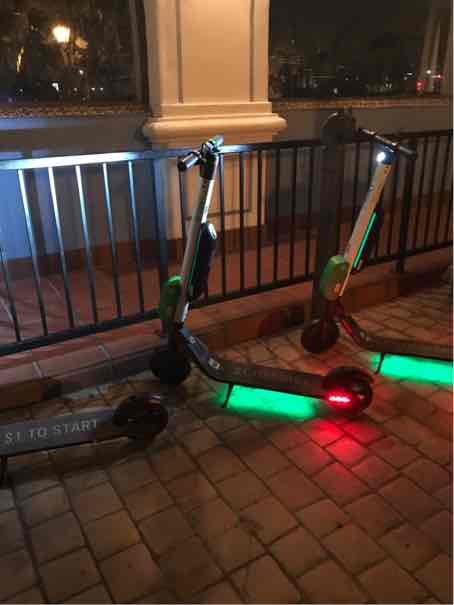scooter: (140, 121, 379, 432)
